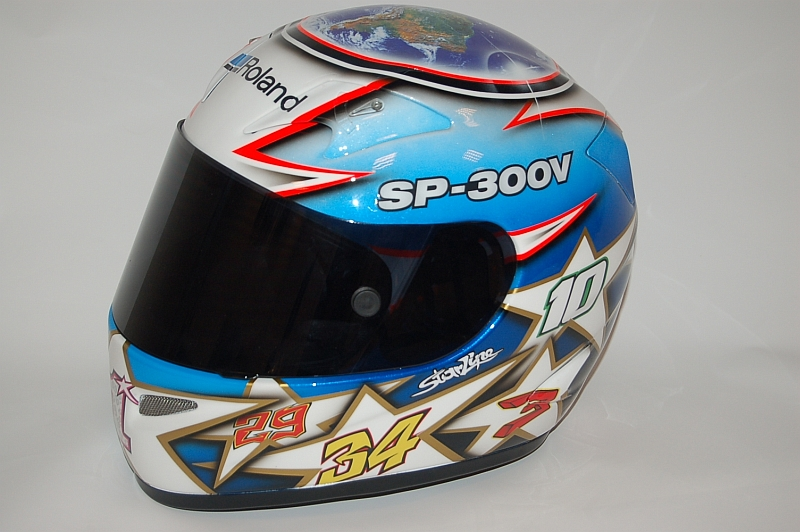helmet: (154, 5, 617, 474)
